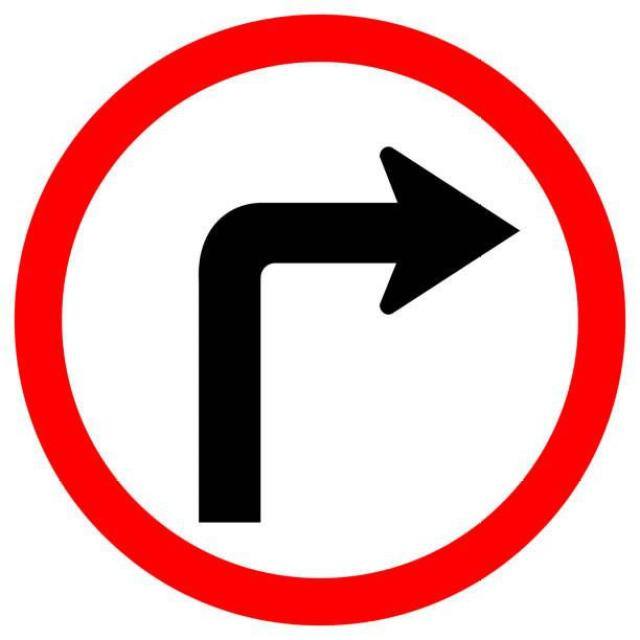Righthand_curve: (16, 14, 611, 628)
